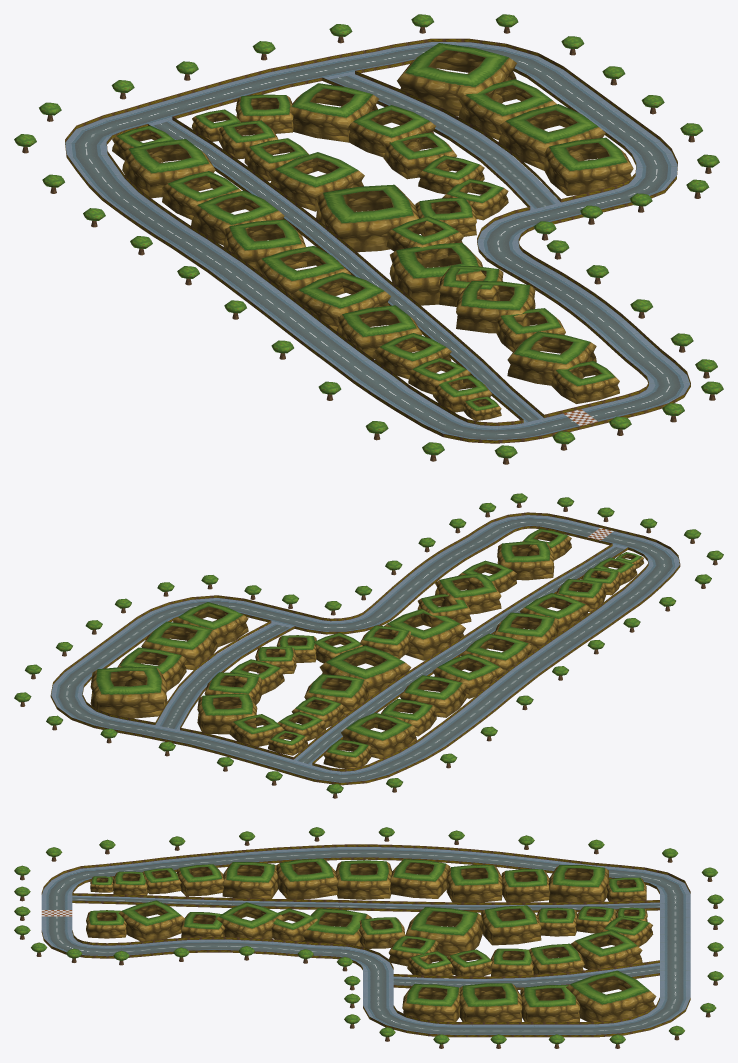
Rendered from track_02.FBX.
The picture shows the model from 3 angles, top to bottom: view 1: azimuth 30°, elevation 25°; view 2: azimuth 150°, elevation 25°; view 3: azimuth 270°, elevation 25°; orthographic projection. The views are drawn at different scales.
Parts seen in each view (by area): view 1: background_cliff, track02, fence02, background_tree; view 2: background_cliff, track02, fence02, background_tree; view 3: background_cliff, track02, fence02, background_tree.
Boxes of the visible parts, x1,y1,x2,y2 form: background_cliff: (112, 43, 633, 420); track02: (65, 42, 690, 440); fence02: (65, 38, 690, 443); background_tree: (14, 14, 723, 464); background_cliff: (90, 528, 643, 768); track02: (51, 515, 679, 782); fence02: (50, 512, 680, 785); background_tree: (14, 493, 723, 798); background_cliff: (86, 858, 656, 1021); track02: (41, 847, 690, 1034); fence02: (41, 844, 690, 1037); background_tree: (14, 827, 723, 1048).
Bounding box in the file's own units: 56211 × 4346 × 83326.
